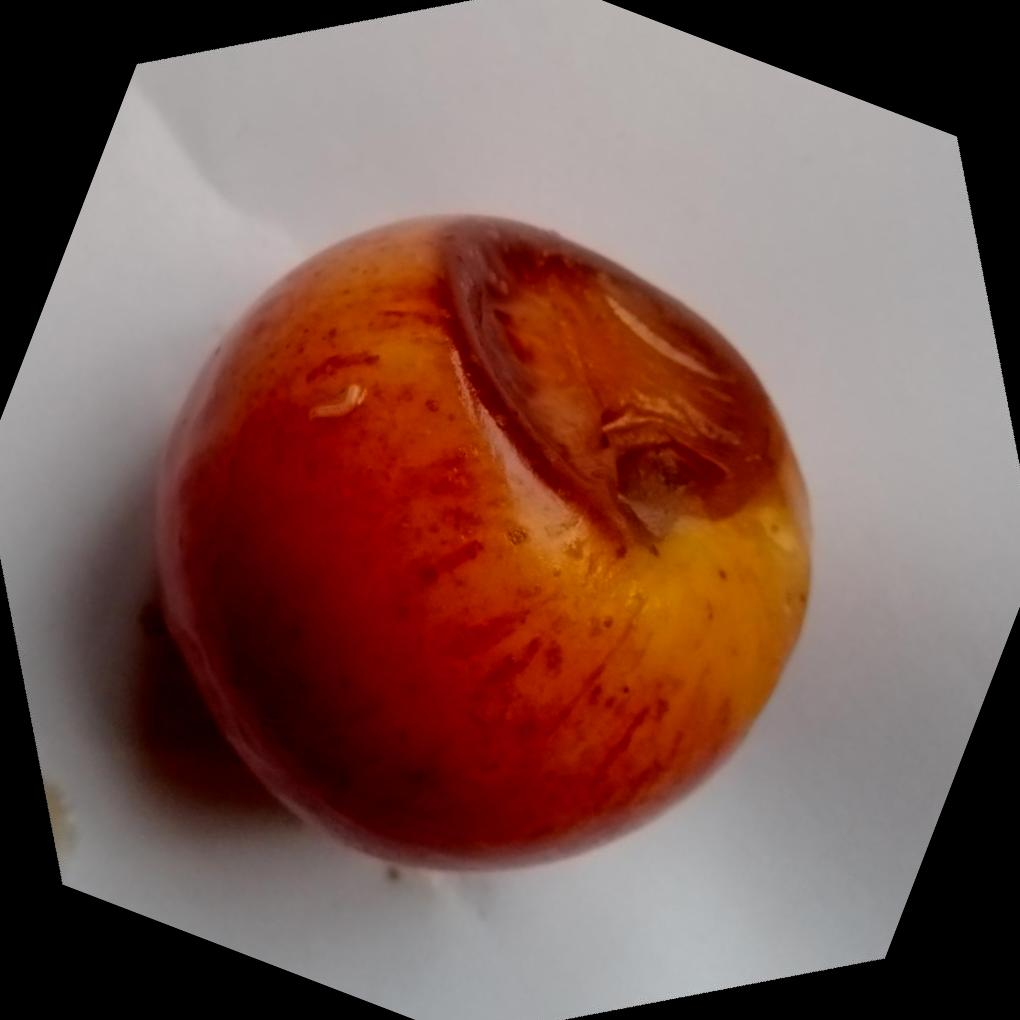FreshOrange: (151, 209, 814, 873)
